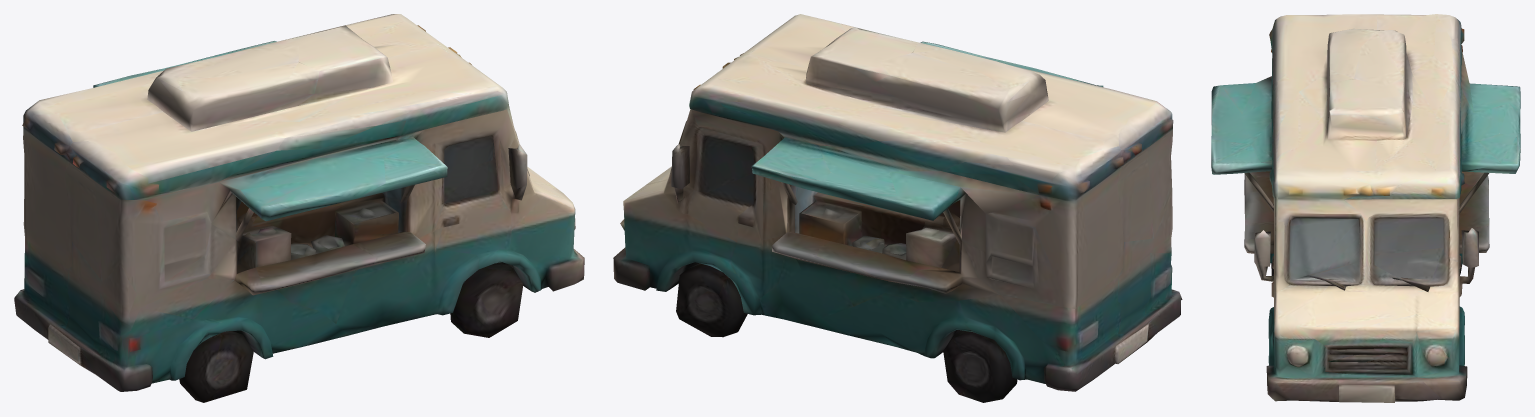
Rendered from foodtruck.glb.
3 renders of one model, left to right at view 1: azimuth 30°, elevation 25°; view 2: azimuth 150°, elevation 25°; view 3: azimuth 270°, elevation 25°, orthographic. The views are drawn at different scales.
Visible parts, largest first — view 1: tripo_node_01a21d85-7ab6-7c42-b10f-c7d89b58e957; view 2: tripo_node_01a21d85-7ab6-7c42-b10f-c7d89b58e957; view 3: tripo_node_01a21d85-7ab6-7c42-b10f-c7d89b58e957.
Boxes of the visible parts, x1=… form: tripo_node_01a21d85-7ab6-7c42-b10f-c7d89b58e957: x1=14, y1=14, x2=584, y2=402; tripo_node_01a21d85-7ab6-7c42-b10f-c7d89b58e957: x1=613, y1=14, x2=1182, y2=402; tripo_node_01a21d85-7ab6-7c42-b10f-c7d89b58e957: x1=1211, y1=14, x2=1520, y2=402.
Size of the model in its own units: 4.6 by 2.59 by 2.91.
1 material, 1 textured.
